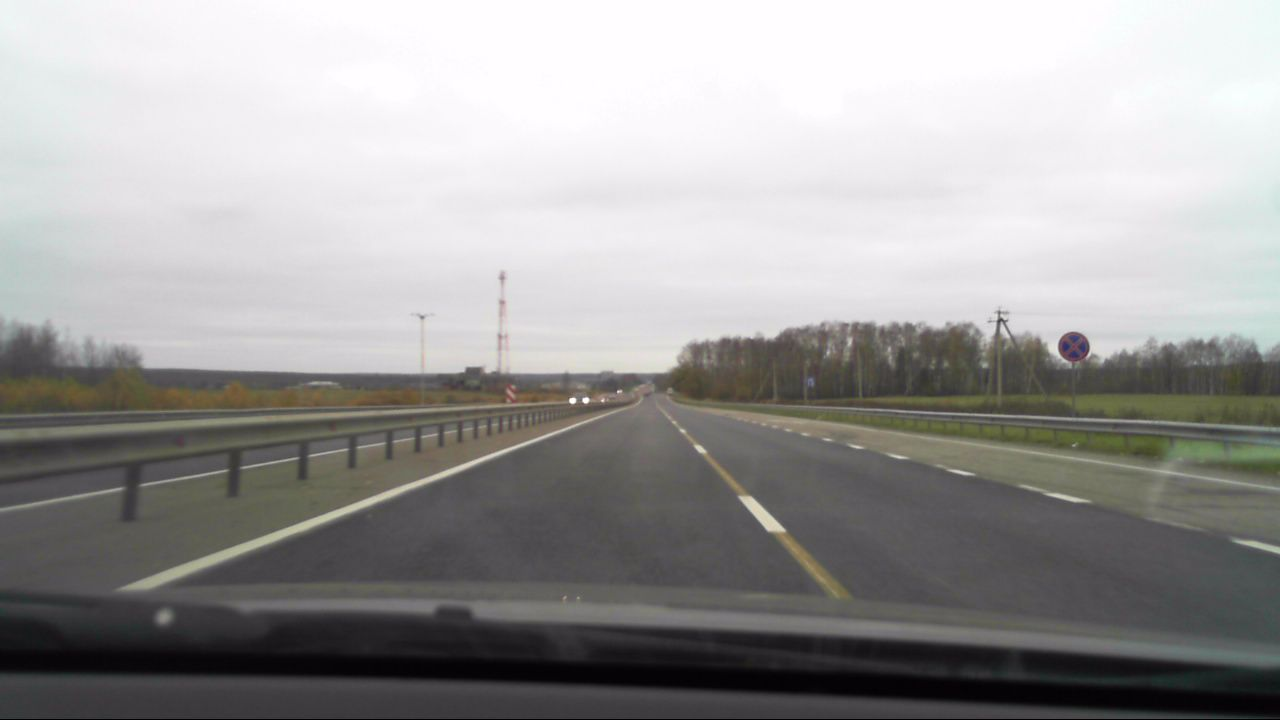No Parking: (1056, 329, 1092, 366)
